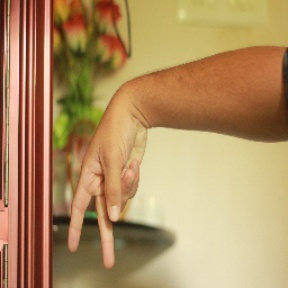Y: (65, 100, 149, 272)
